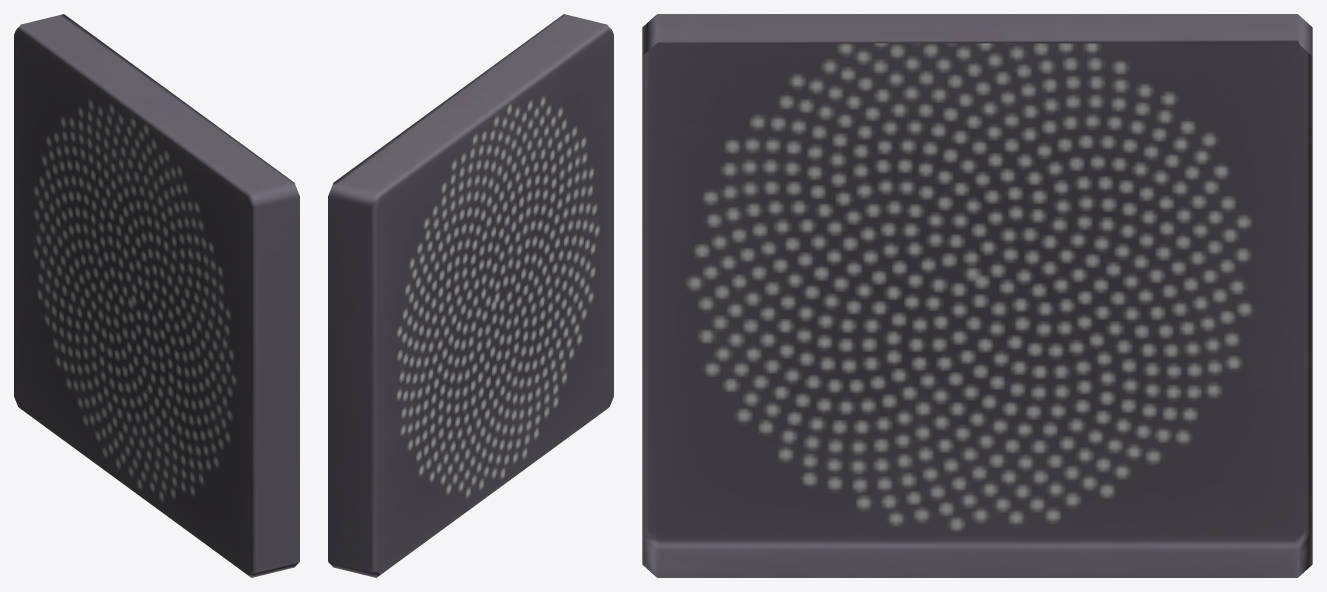
Rendered from Speaker.fbx.
3 renders of one model, left to right at view 1: azimuth 30°, elevation 25°; view 2: azimuth 150°, elevation 25°; view 3: azimuth 270°, elevation 25°, orthographic. The views are drawn at different scales.
Visible parts, largest first — view 1: Speaker; view 2: Speaker; view 3: Speaker.
Boxes of the visible parts, <box> form: Speaker: <box>14,14,299,577</box>; Speaker: <box>328,14,613,577</box>; Speaker: <box>642,14,1312,577</box>.
Bounding box in the file's own units: 2.46 × 19.29 × 21.9.
